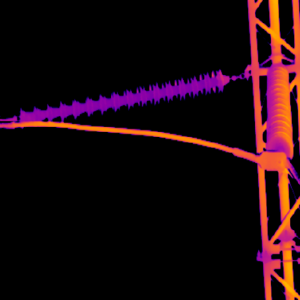insulator: (18, 67, 230, 124), (264, 62, 293, 157)
